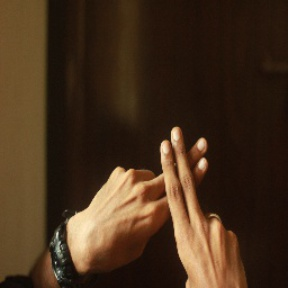F: (136, 118, 232, 239)
